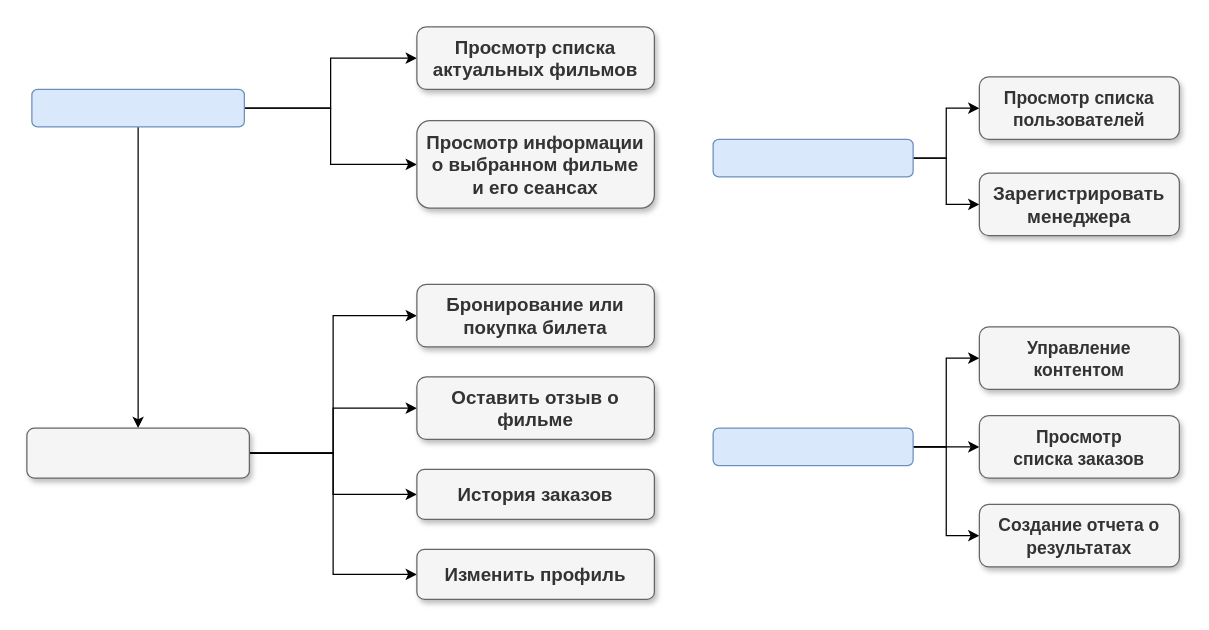
This 1209x630 diagram has some shape labels left out. Here are the shapes that lost their labels. From the top down, the centre of each, then its label:
(137,107): Пользователь
(812,157): Администратор
(139,454): Зарегистрироваться
(812,446): Менеджер
